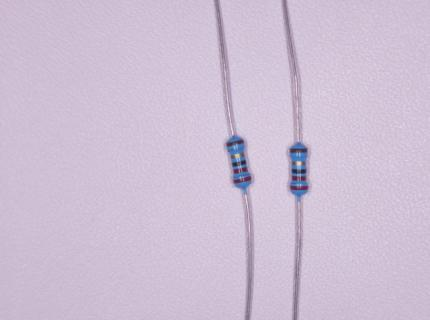Black band: (232, 160, 247, 167), (292, 169, 307, 173)
Brown band: (226, 139, 244, 147), (289, 148, 308, 153)
Gold band: (230, 152, 245, 159), (292, 161, 306, 165)
Red band: (233, 175, 252, 184), (233, 167, 248, 174), (290, 186, 309, 190), (292, 176, 306, 181)
